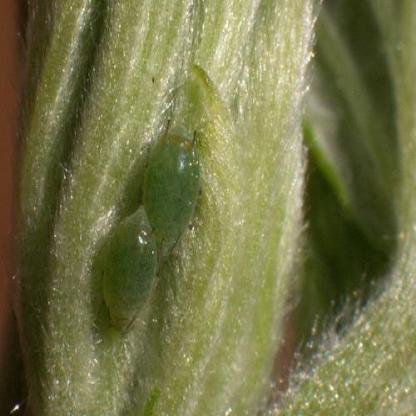aphid: (92, 202, 176, 336), (139, 117, 207, 263)
